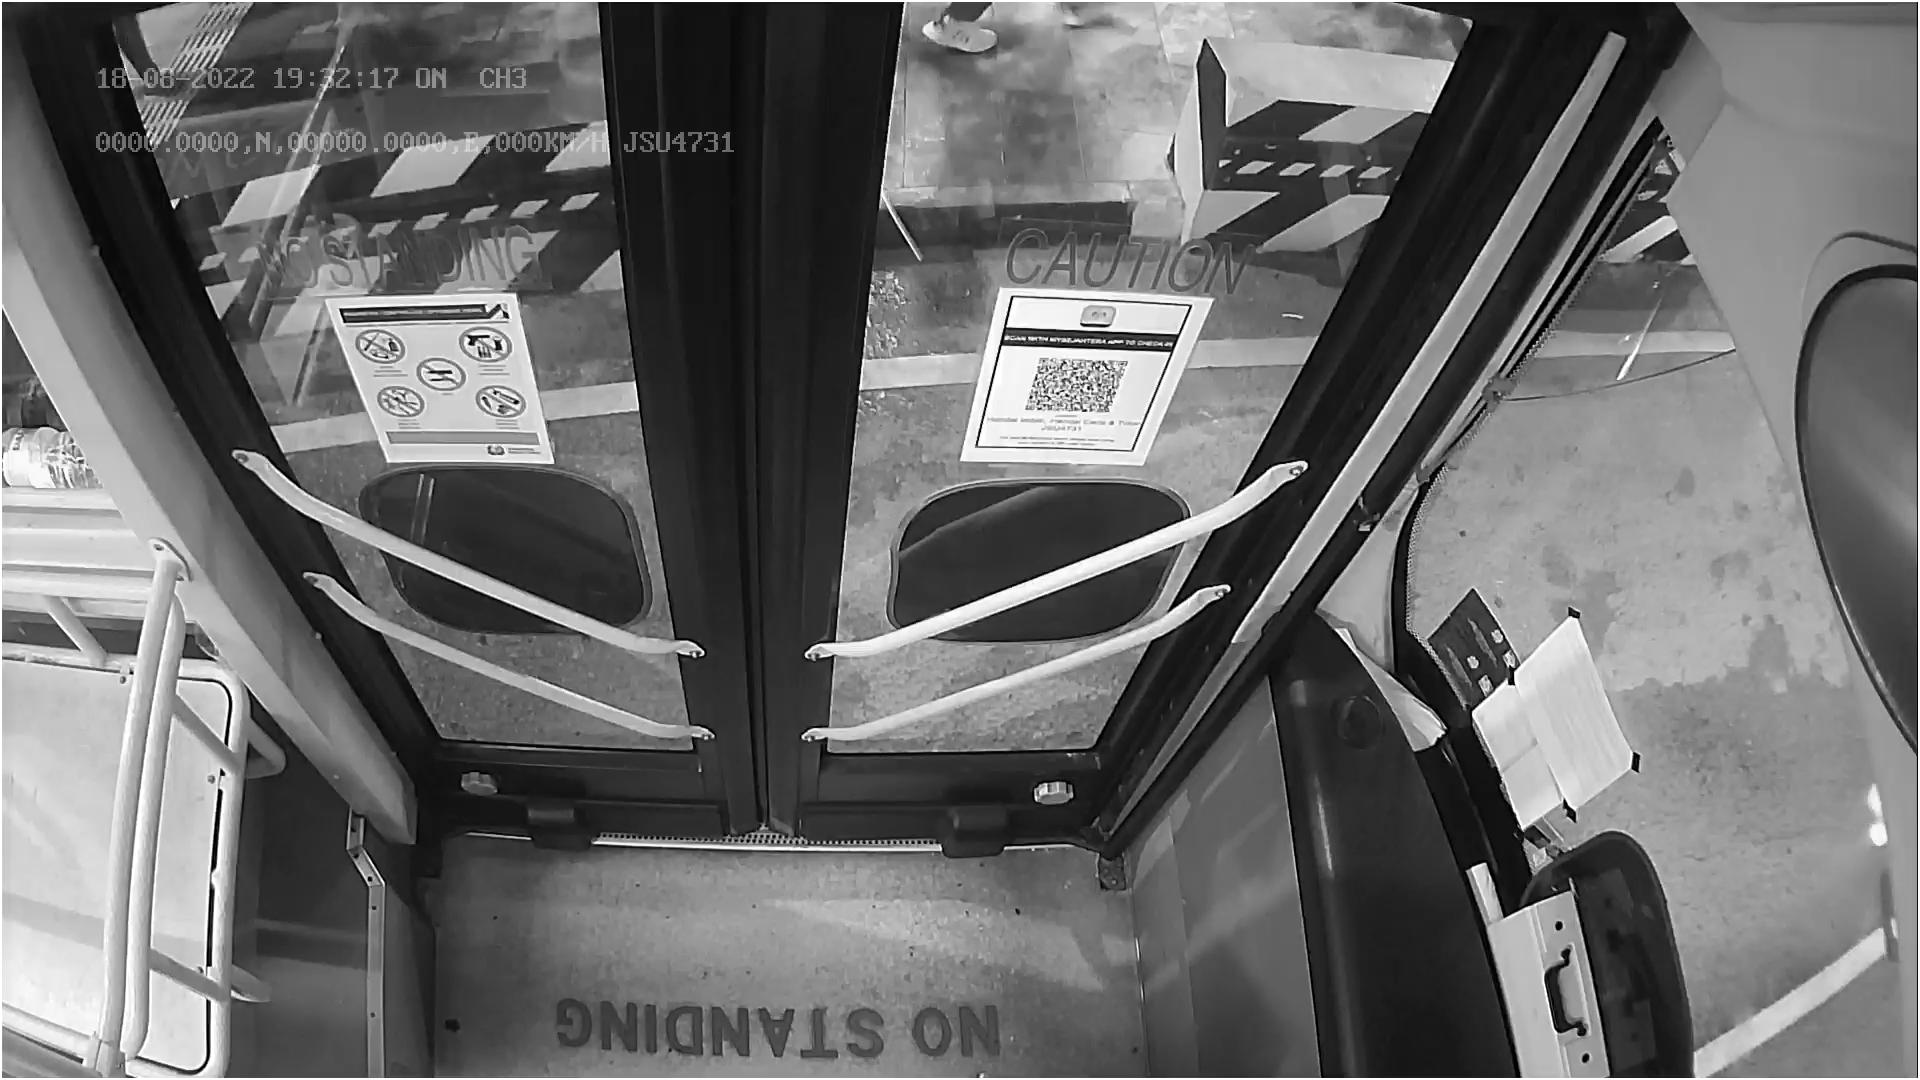close: (127, 0, 1448, 162)
